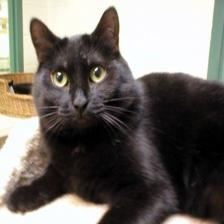cat: (27, 6, 146, 141)
